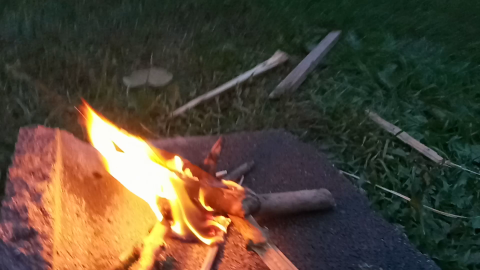fire: (66, 94, 258, 243)
